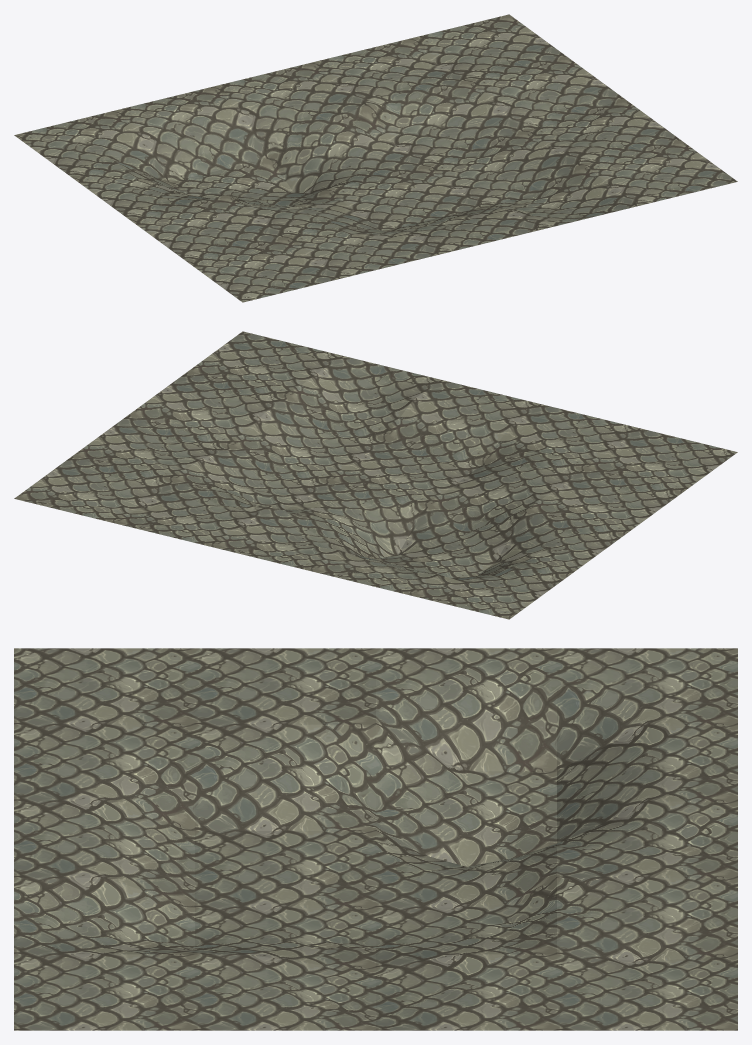
Rendered from testfloor.fbx.
3 views of the same model, one above another, from view 1: azimuth 30°, elevation 25°; view 2: azimuth 150°, elevation 25°; view 3: azimuth 270°, elevation 25° (orthographic). The views are drawn at different scales.
Parts seen in each view (by area): view 1: polySurface110; view 2: polySurface110; view 3: polySurface110.
Boxes of the visible parts, x1,y1,x2,y2 form: polySurface110: (14,14,737,302); polySurface110: (14,331,737,619); polySurface110: (14,648,737,1030).
Size of the model in its own units: 10 by 0.9305 by 8.
